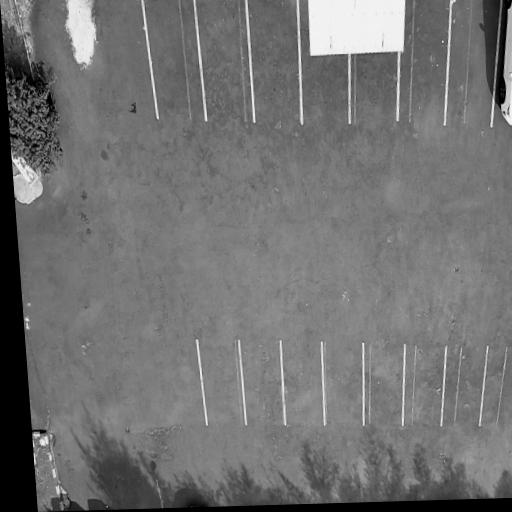Car: (491, 0, 512, 138)
Space Available: (144, 0, 207, 121), (444, 0, 503, 129), (194, 0, 254, 123), (246, 0, 301, 127), (401, 0, 451, 125), (196, 340, 246, 427), (239, 341, 285, 428), (280, 342, 325, 428), (442, 348, 489, 428), (403, 345, 446, 430), (350, 52, 399, 125), (321, 344, 364, 427), (300, 54, 350, 125), (364, 344, 405, 427), (479, 348, 512, 427)
